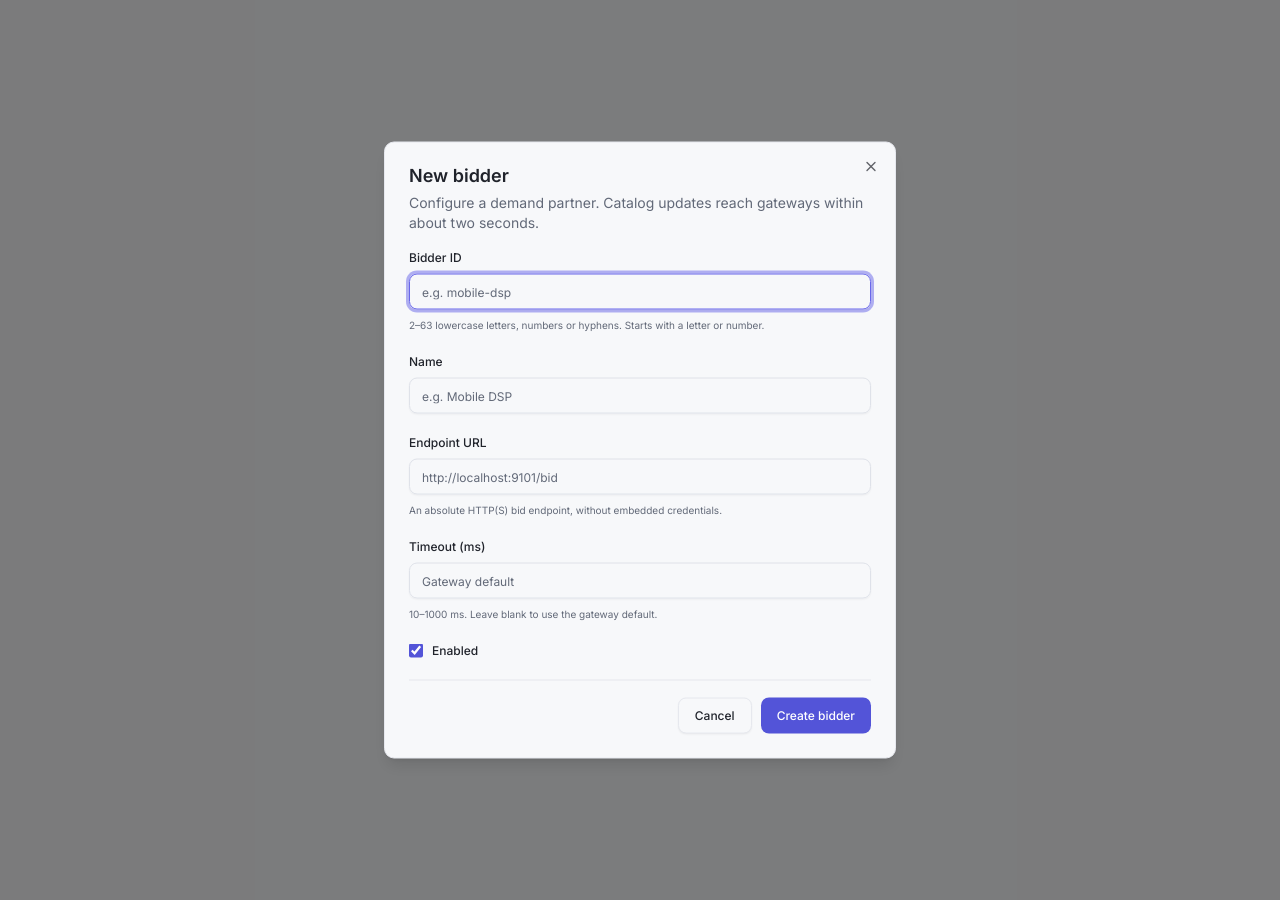
Test: validates bidder ID, endpoint and timeout
Type "Bad_ID" into the field labelled "Bidder ID".
click(640, 292); type("Bad_ID")  # box 409,274 -> 871,310
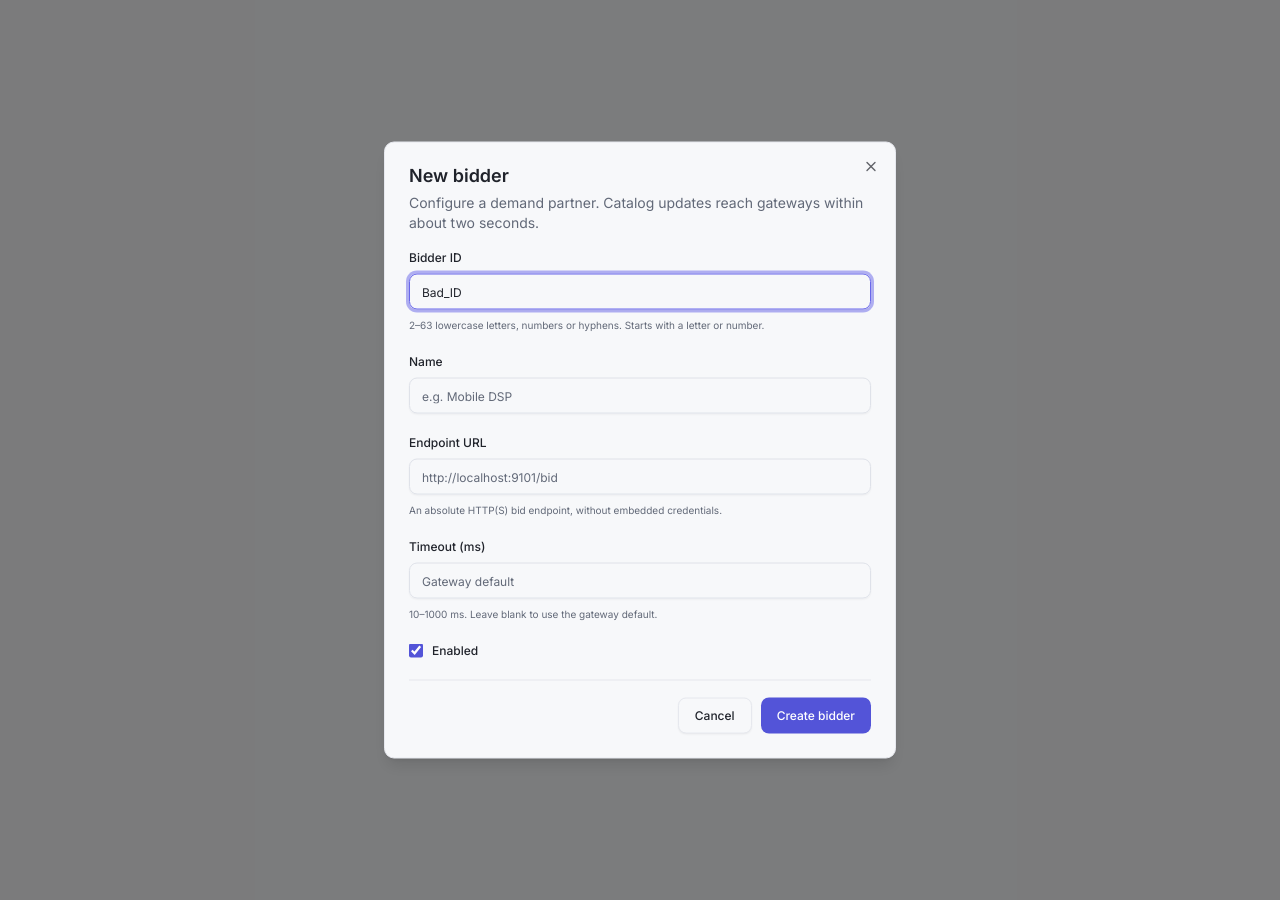
Type "DSP" into the field labelled "Name".
click(640, 396); type("DSP")  # box 409,378 -> 871,414
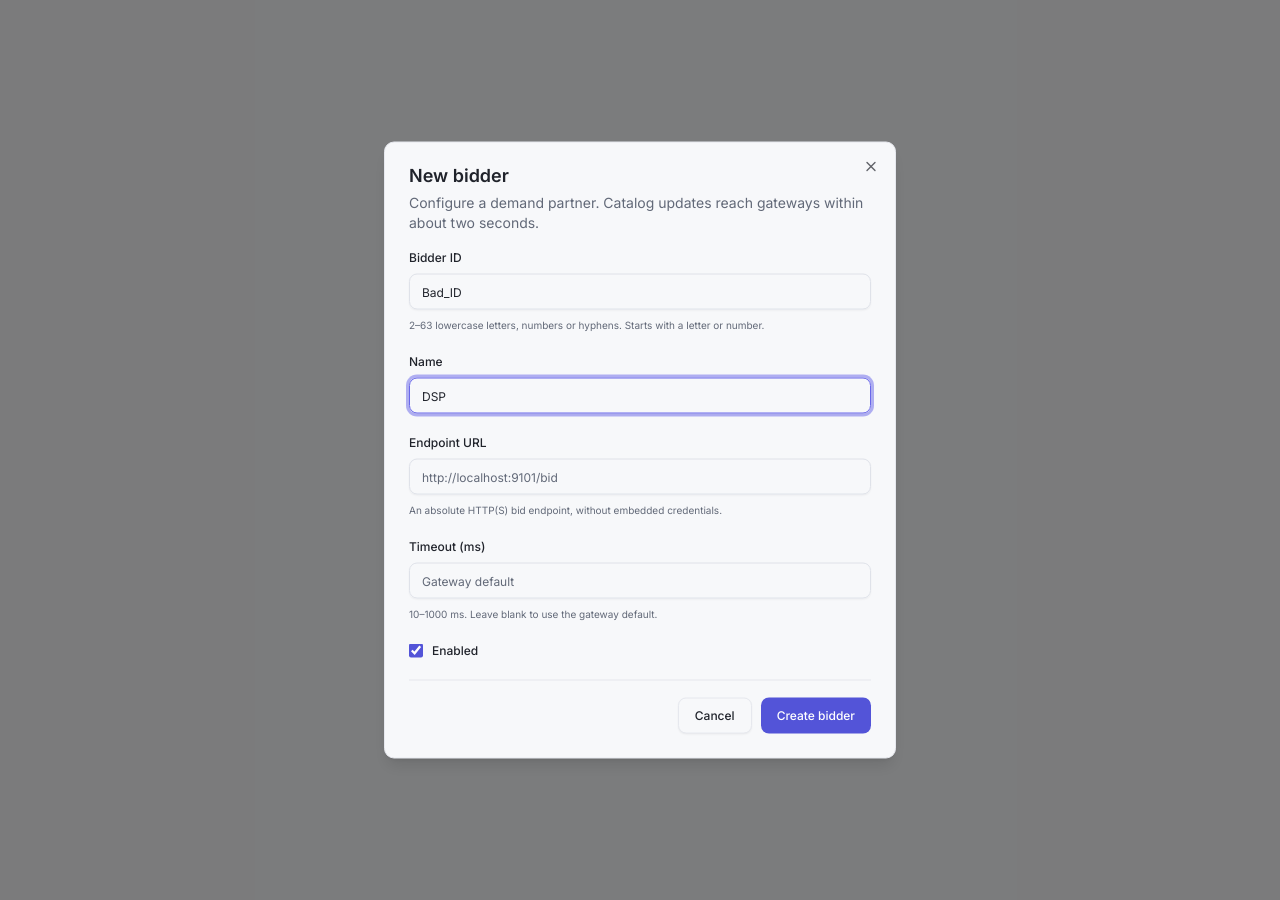
Type "ftp://bad.test" into the field labelled "Endpoint URL".
click(640, 476); type("ftp://bad.test")  # box 409,458 -> 871,494
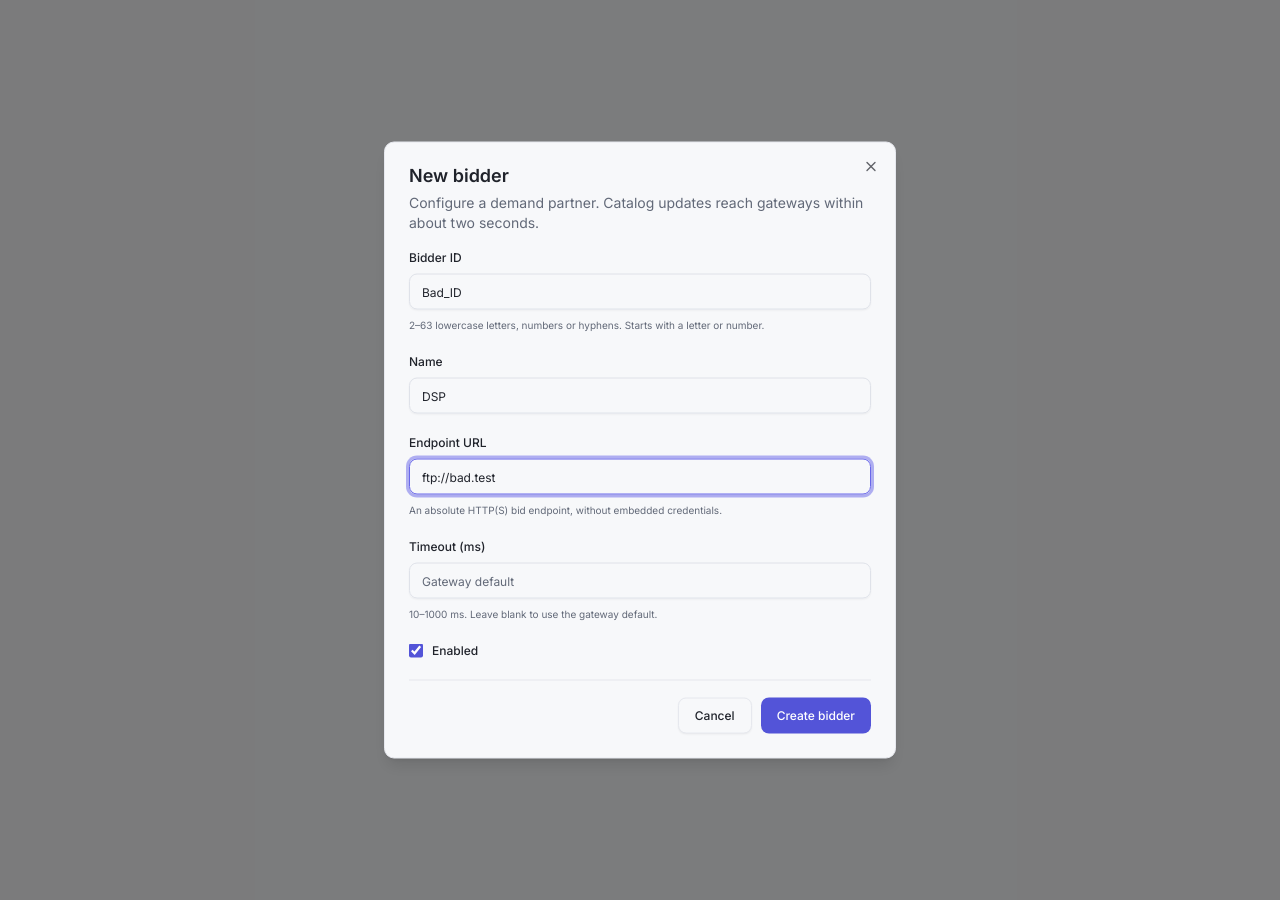
Type "9" into the number field labelled "Timeout (ms)".
click(640, 580); type("9")  # box 409,562 -> 871,598
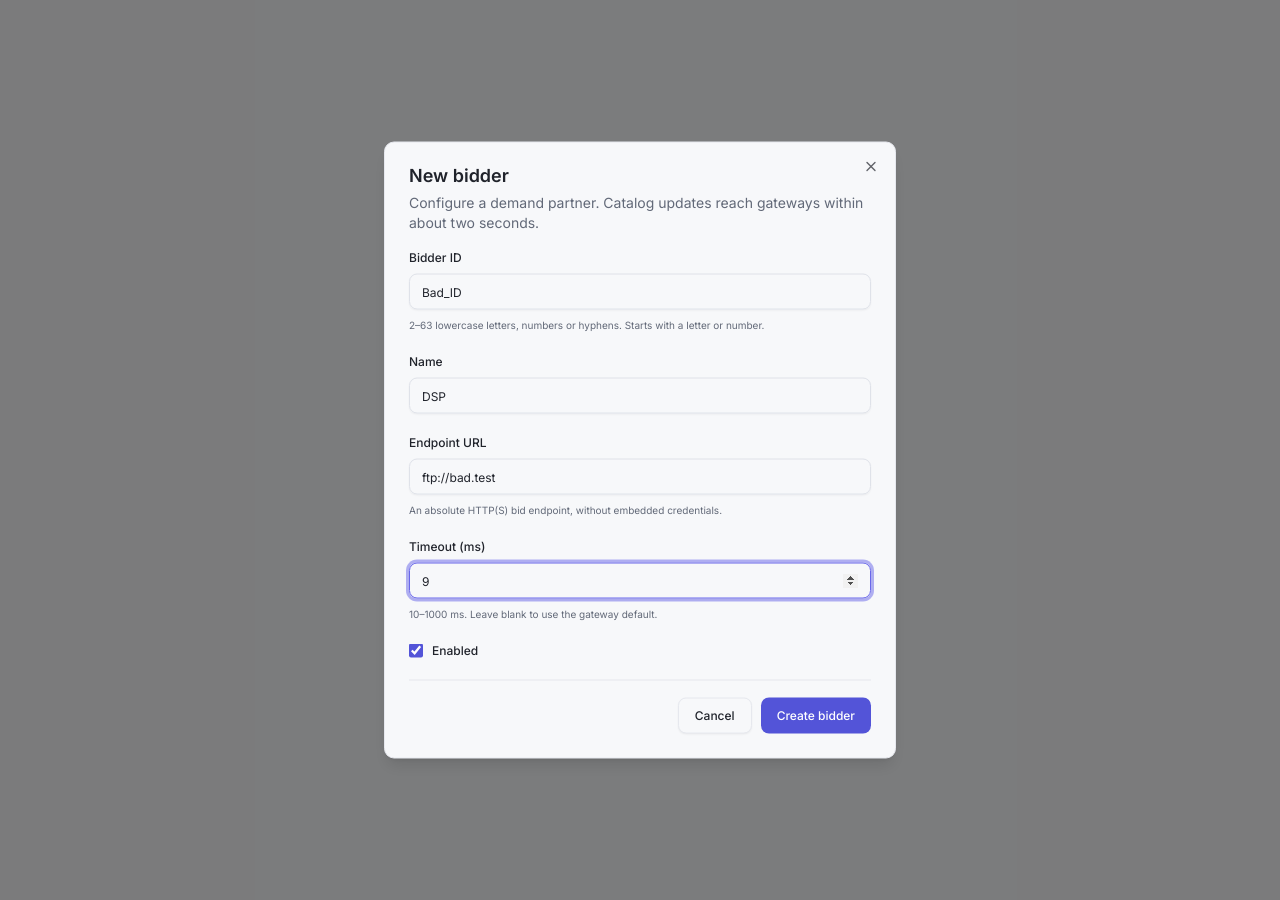
Click the button "Create bidder".
click(816, 716)  # box 761,698 -> 871,734
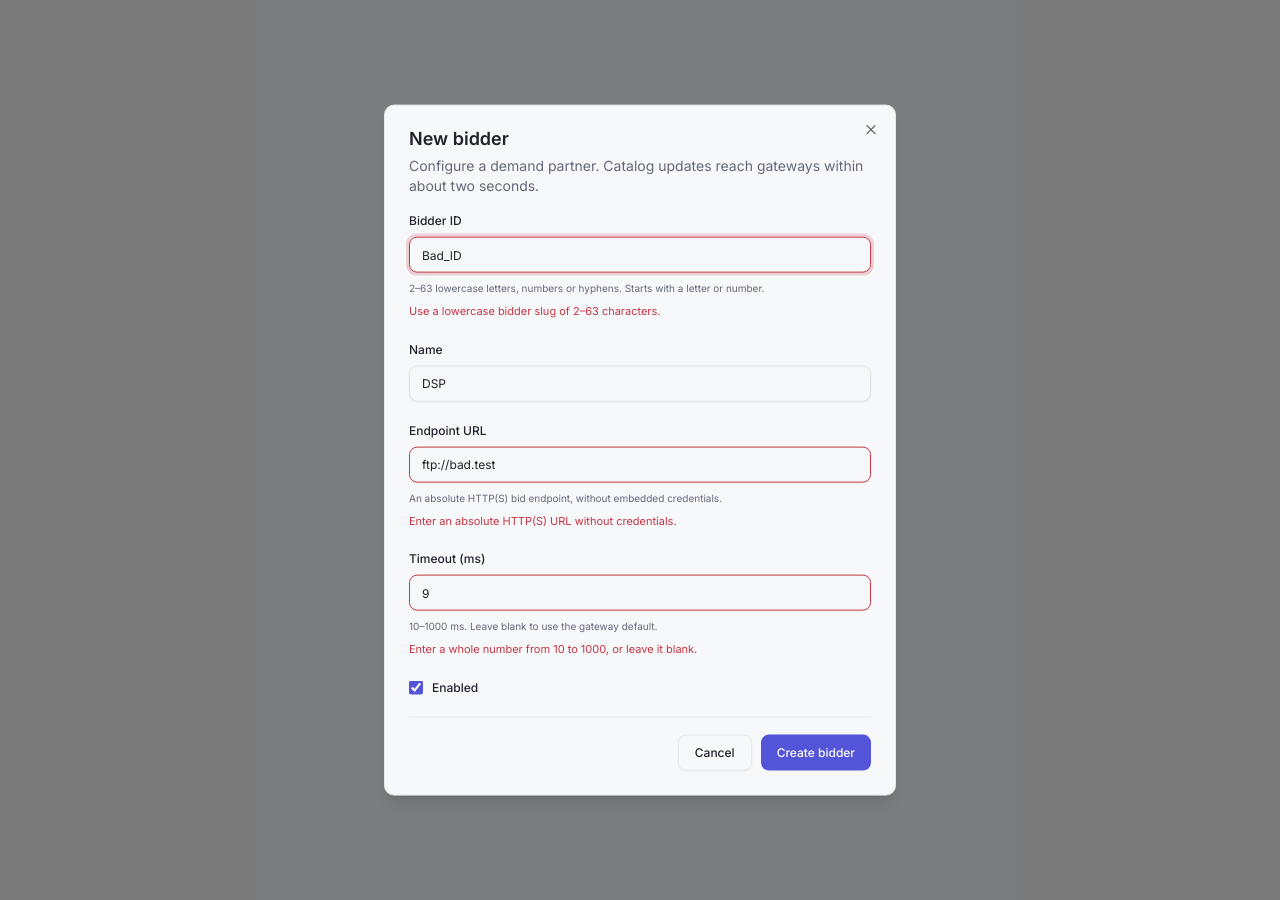
Now the text "Use a lowercase bidder slug of 2–63 characters." is shown, box 409,304 -> 660,318
Now the text "Enter an absolute HTTP(S) URL without credentials." is shown, box 409,513 -> 677,527
Now the text "Enter a whole number from 10 to 1000, or leave it blank." is shown, box 409,642 -> 697,656
